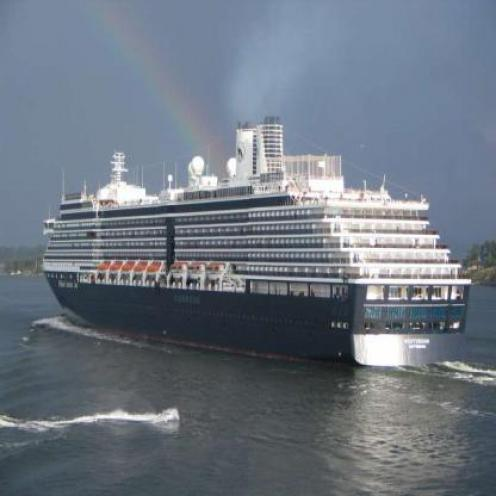Ship: (49, 179, 475, 365)
